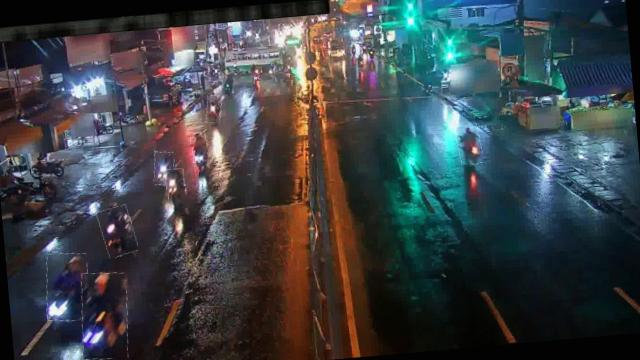Bike: (78, 271, 132, 360), (43, 252, 92, 323), (98, 206, 137, 258), (456, 124, 483, 166), (165, 168, 187, 209), (152, 151, 176, 186), (190, 132, 210, 172), (32, 158, 70, 177), (296, 82, 322, 108), (205, 94, 222, 124), (222, 72, 235, 94)
